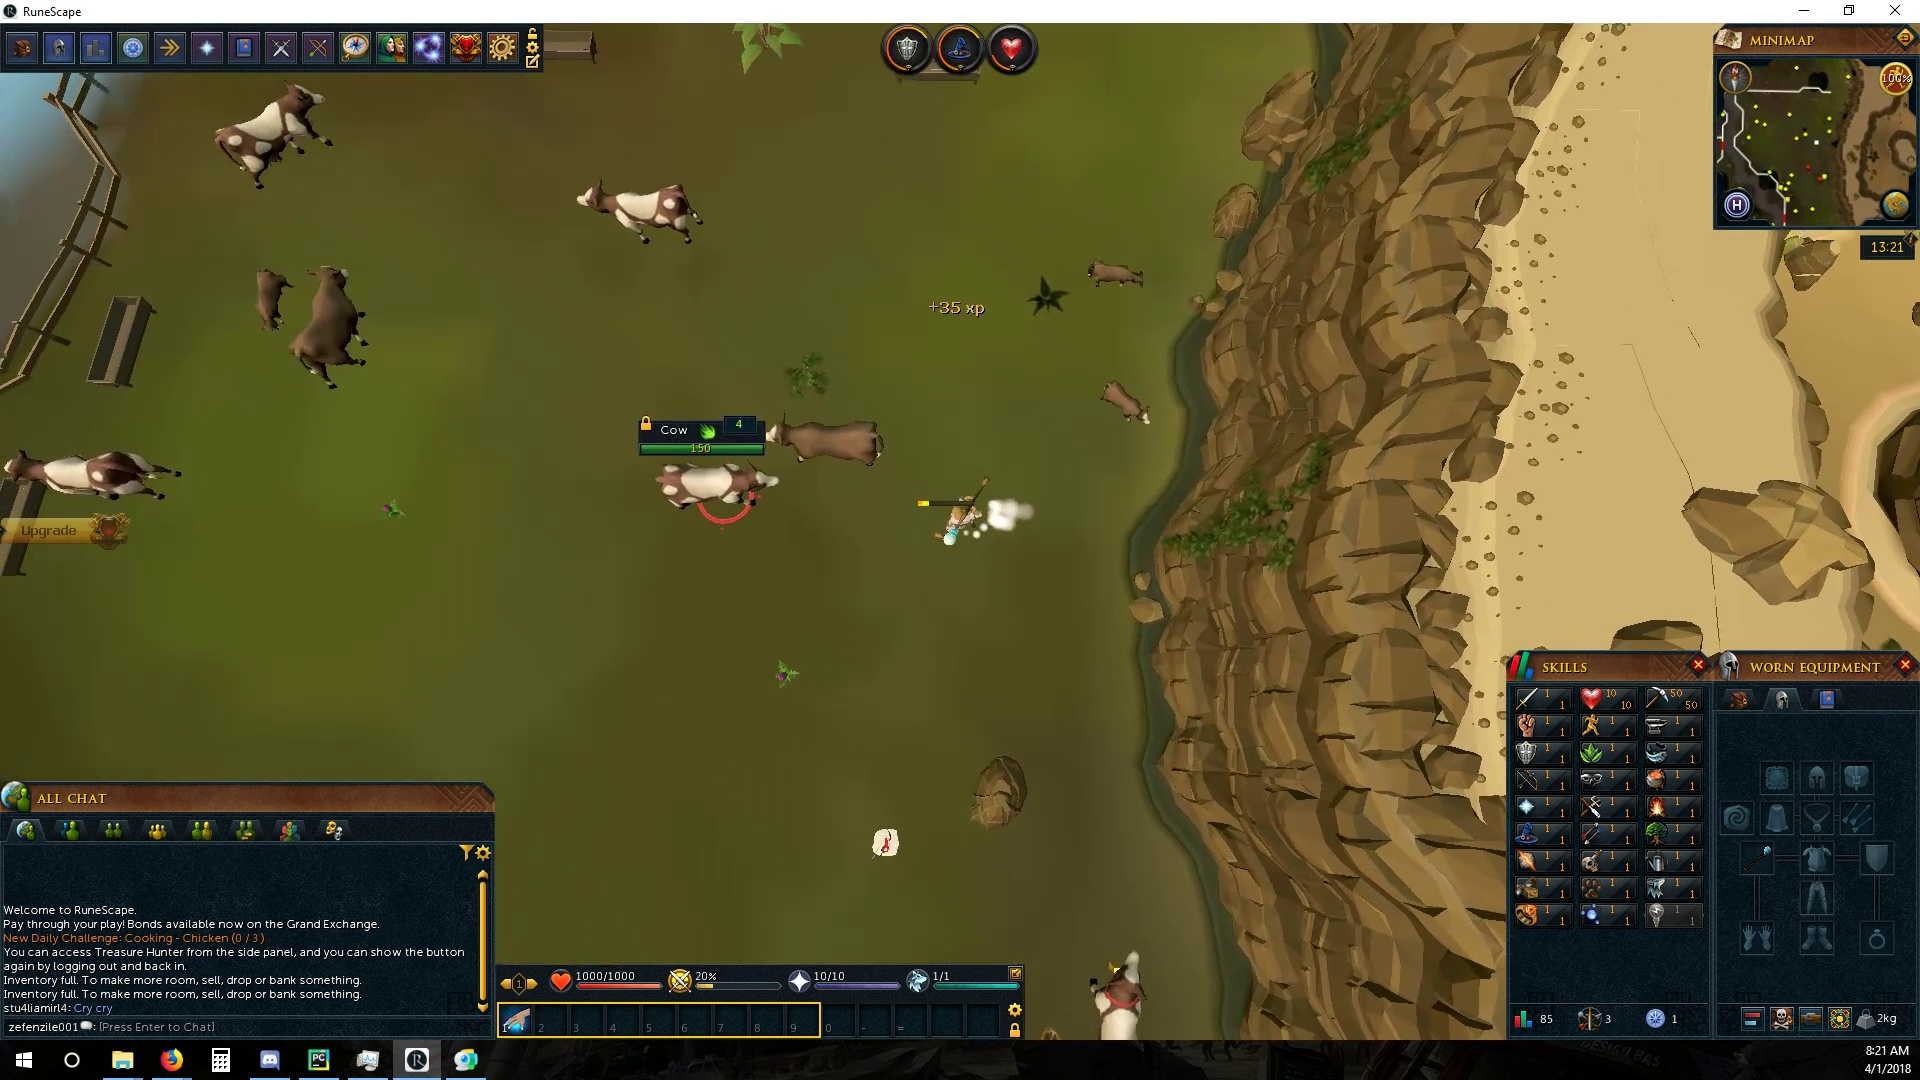calf: (251, 268, 297, 336), (1097, 380, 1153, 429), (1084, 258, 1149, 291)
cow: (214, 82, 338, 189), (289, 262, 369, 392), (1, 447, 179, 505), (575, 178, 705, 253), (651, 460, 781, 516), (765, 413, 881, 469), (1087, 947, 1153, 1039)
